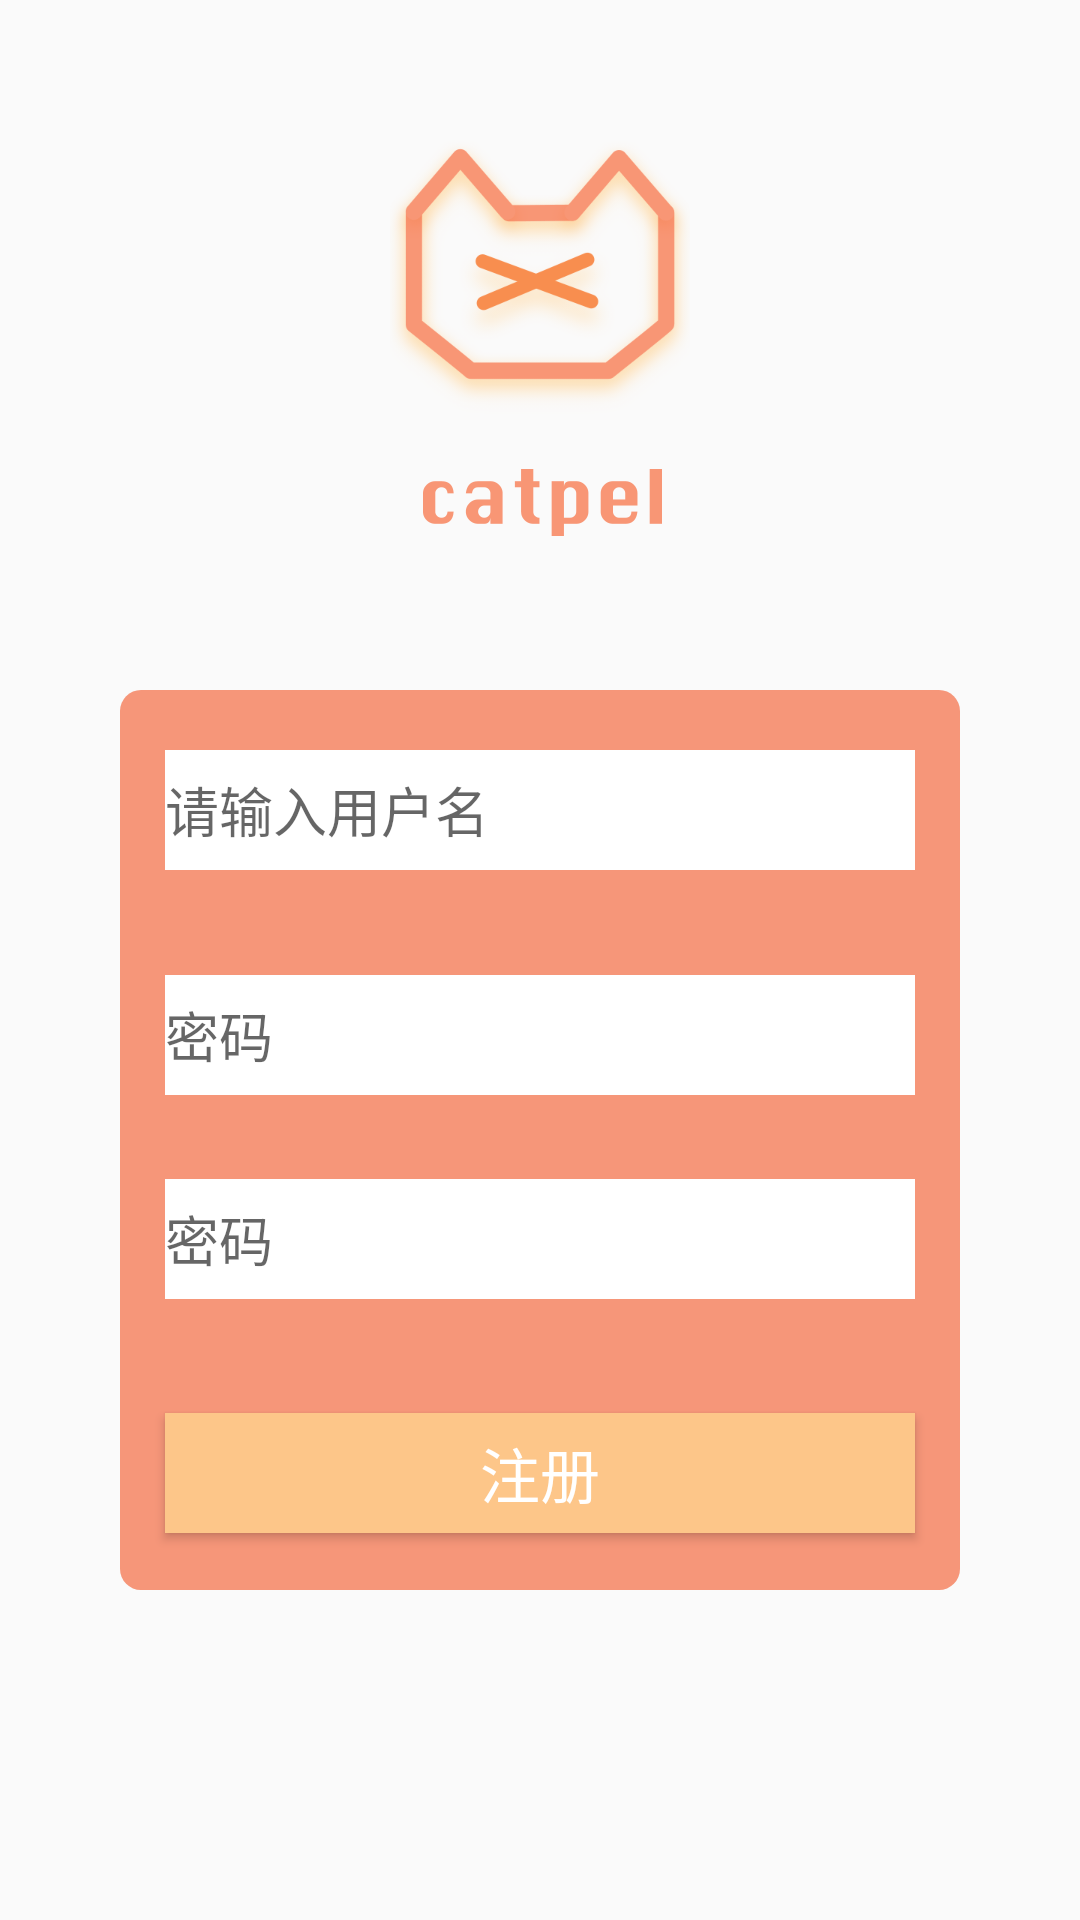

Icon bounding boxes for this 1080px x 1920px phone screenshot, format [x1,y1,x2,y2]:
loginicon: [398,149,682,393]
